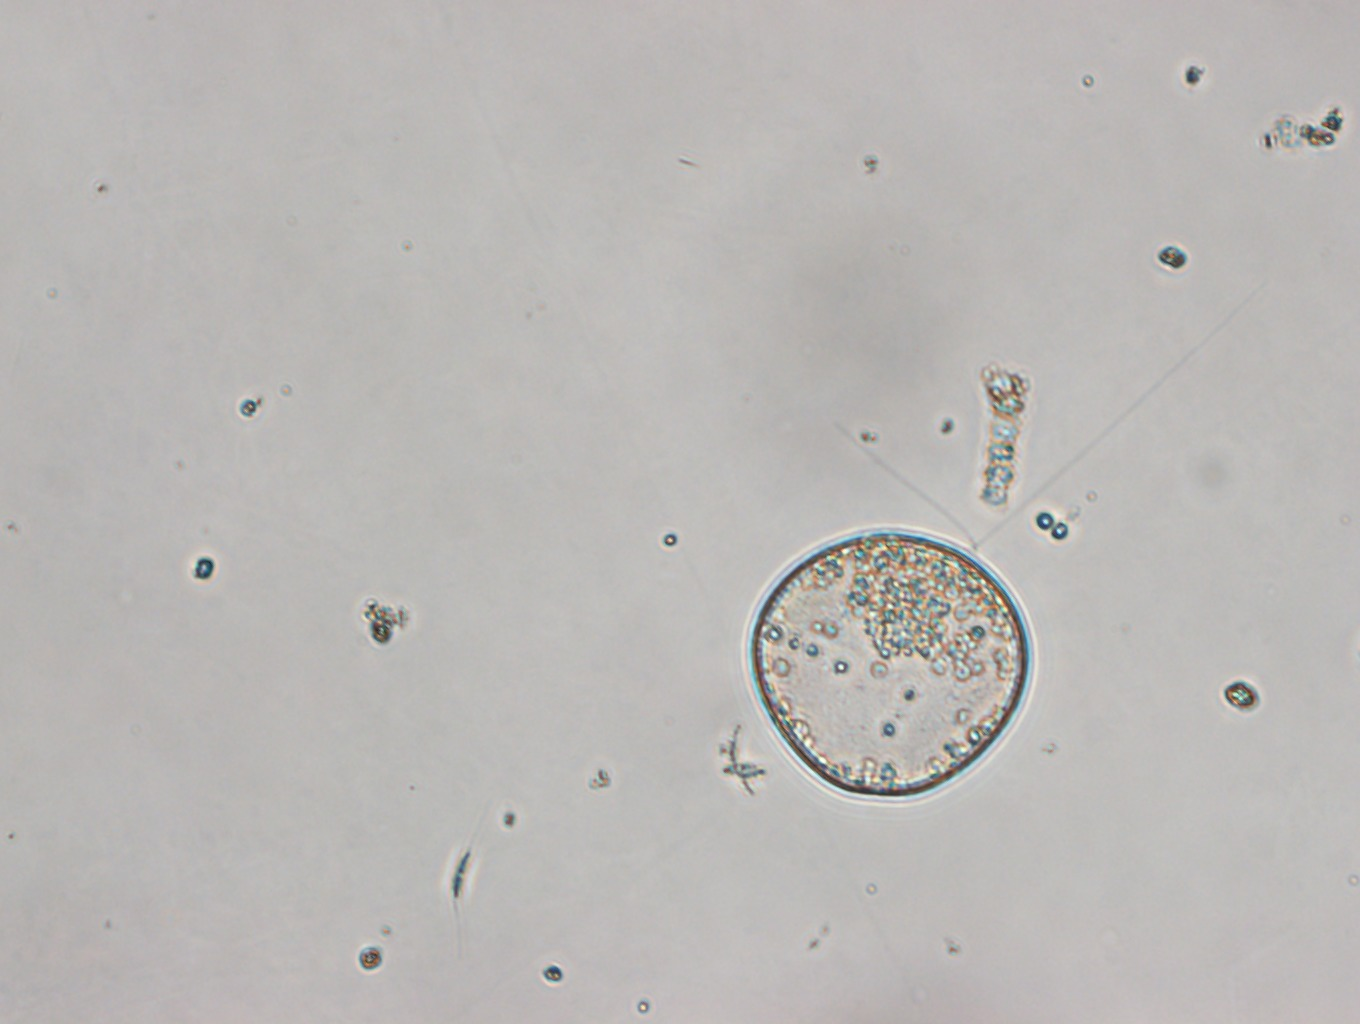coscinodiscus: (747, 526, 1033, 801)
